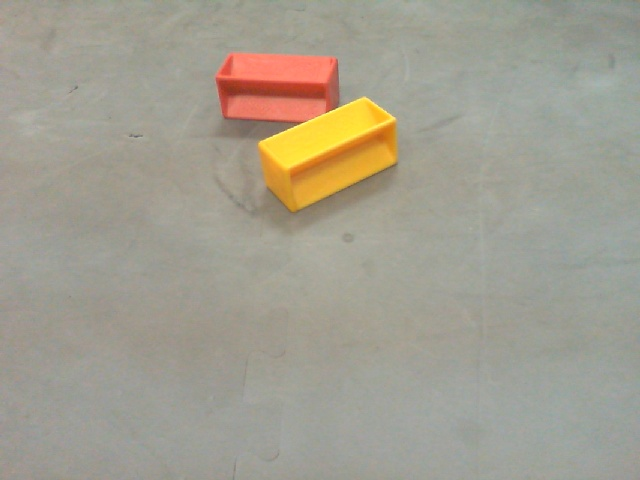RedSample: (213, 50, 339, 125)
YellowSample: (256, 95, 399, 216)
